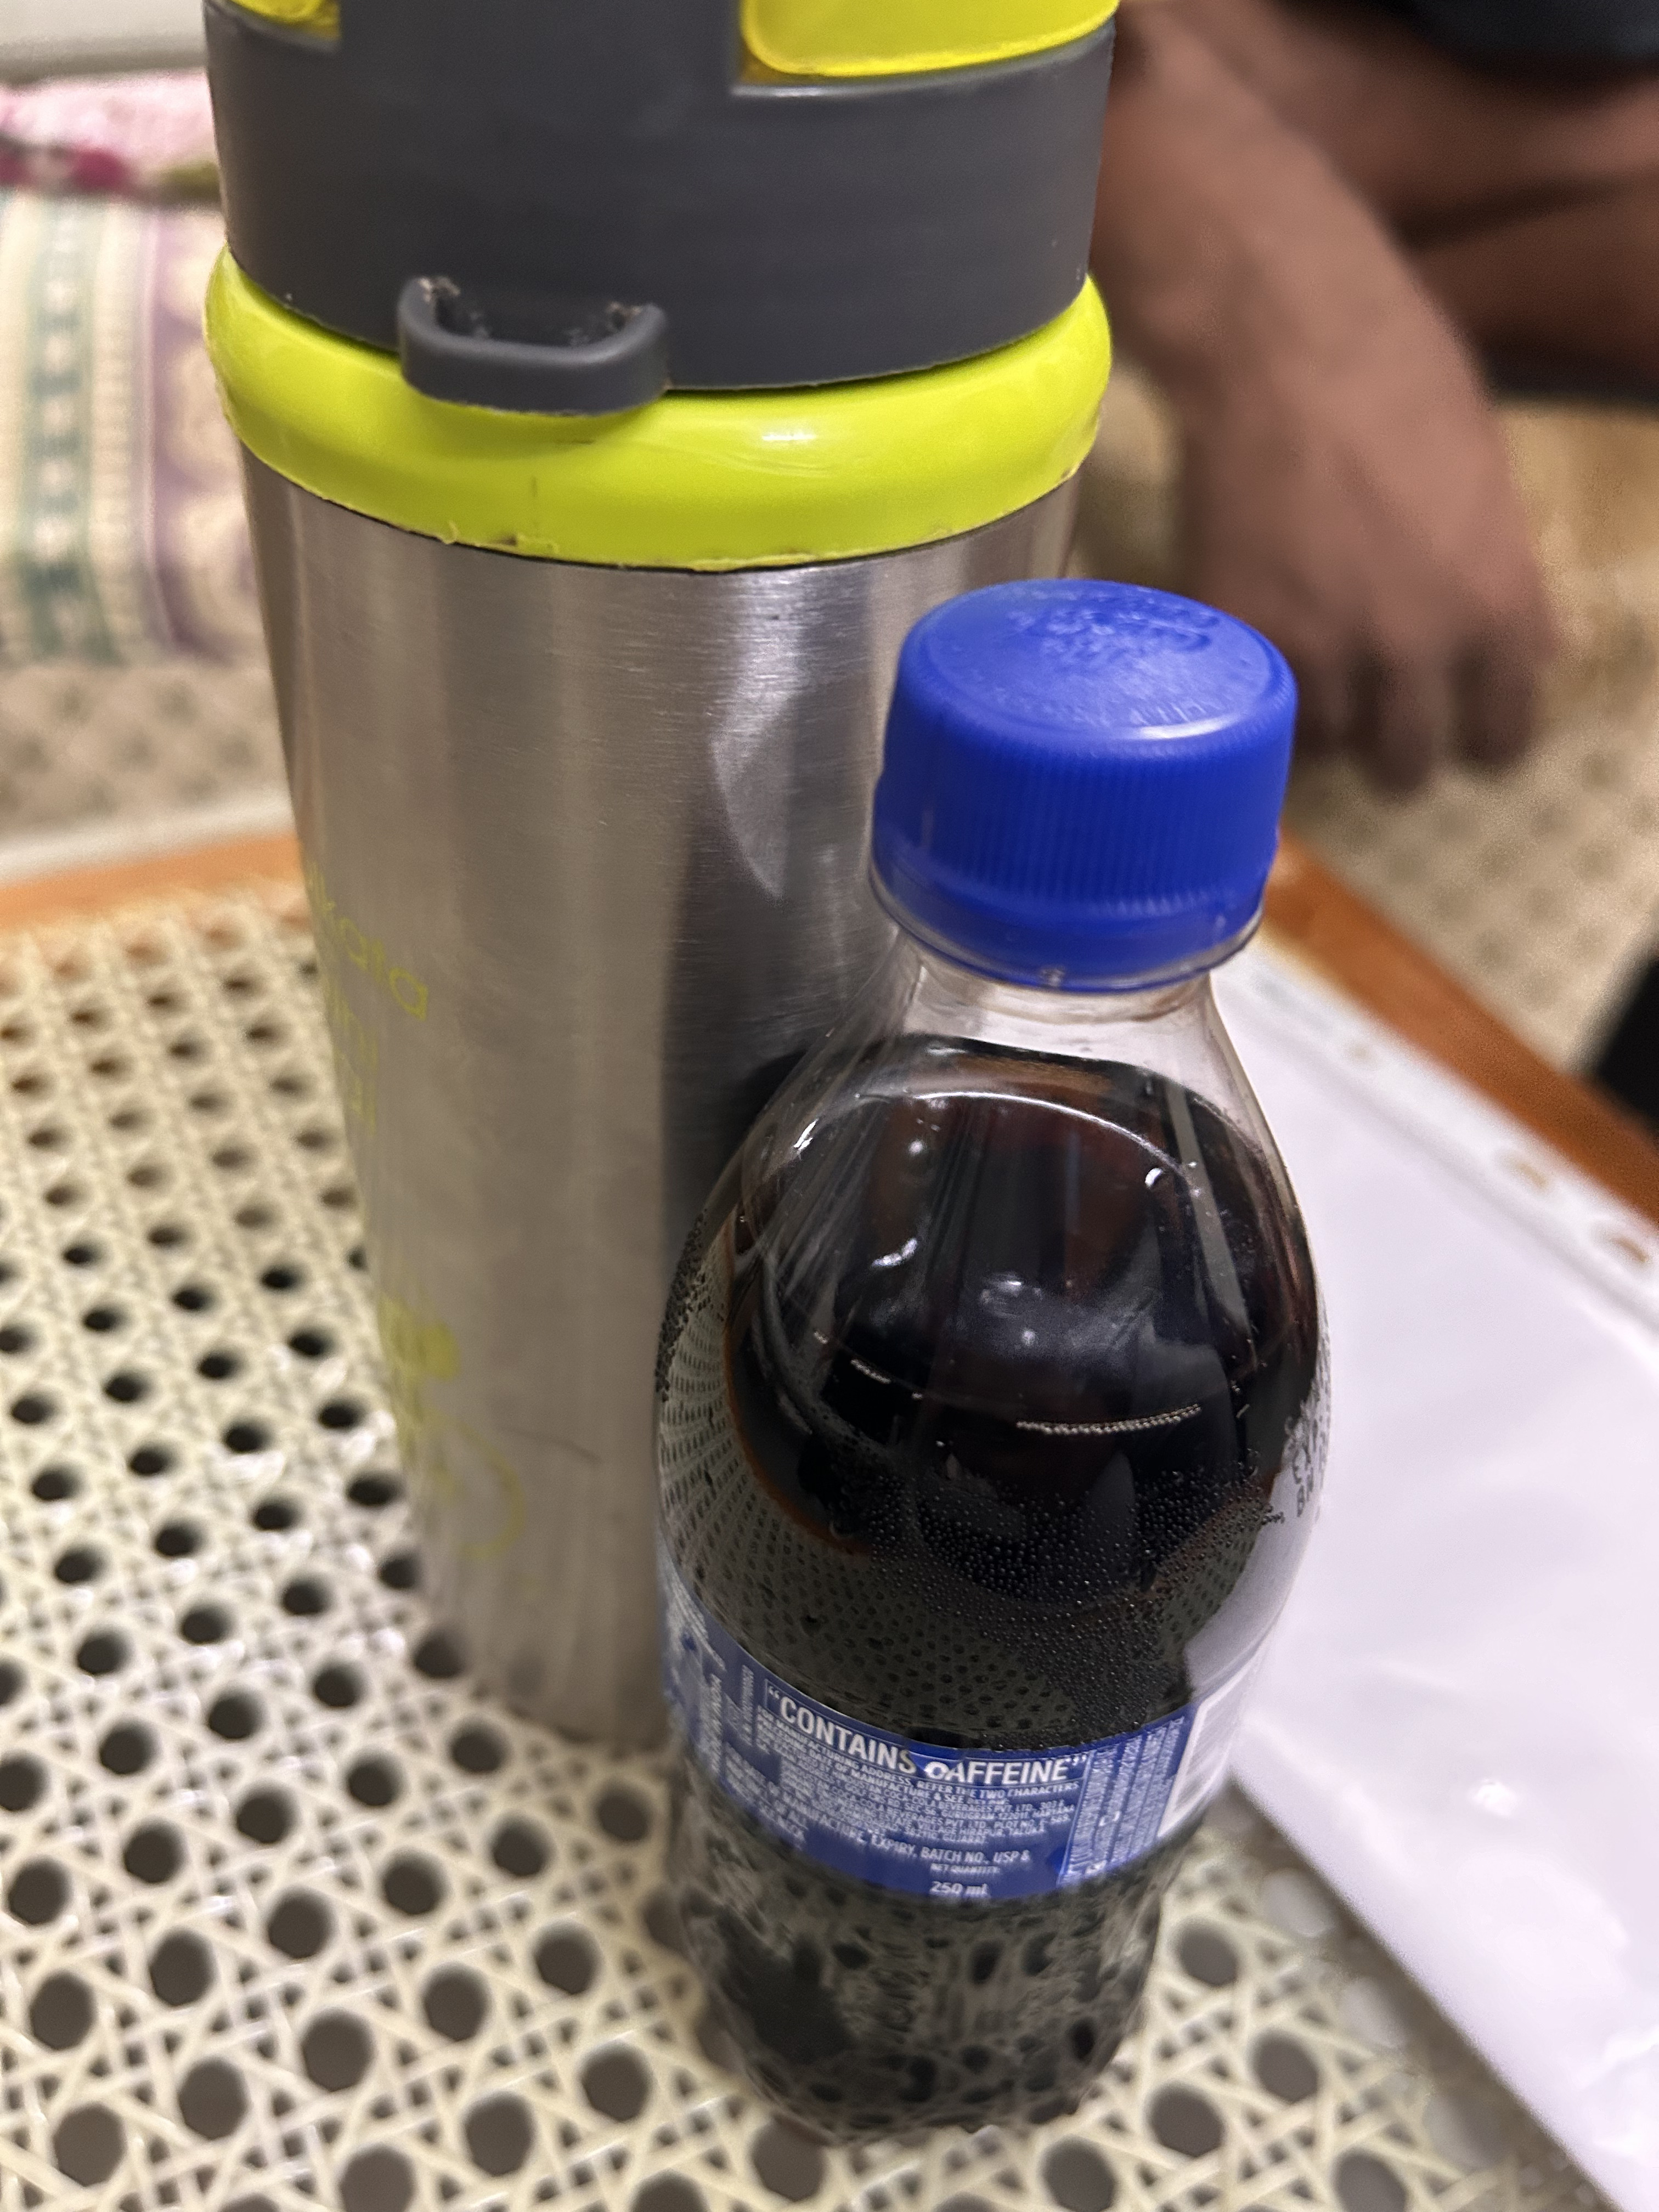sealstable: (861, 540, 1300, 1082)
